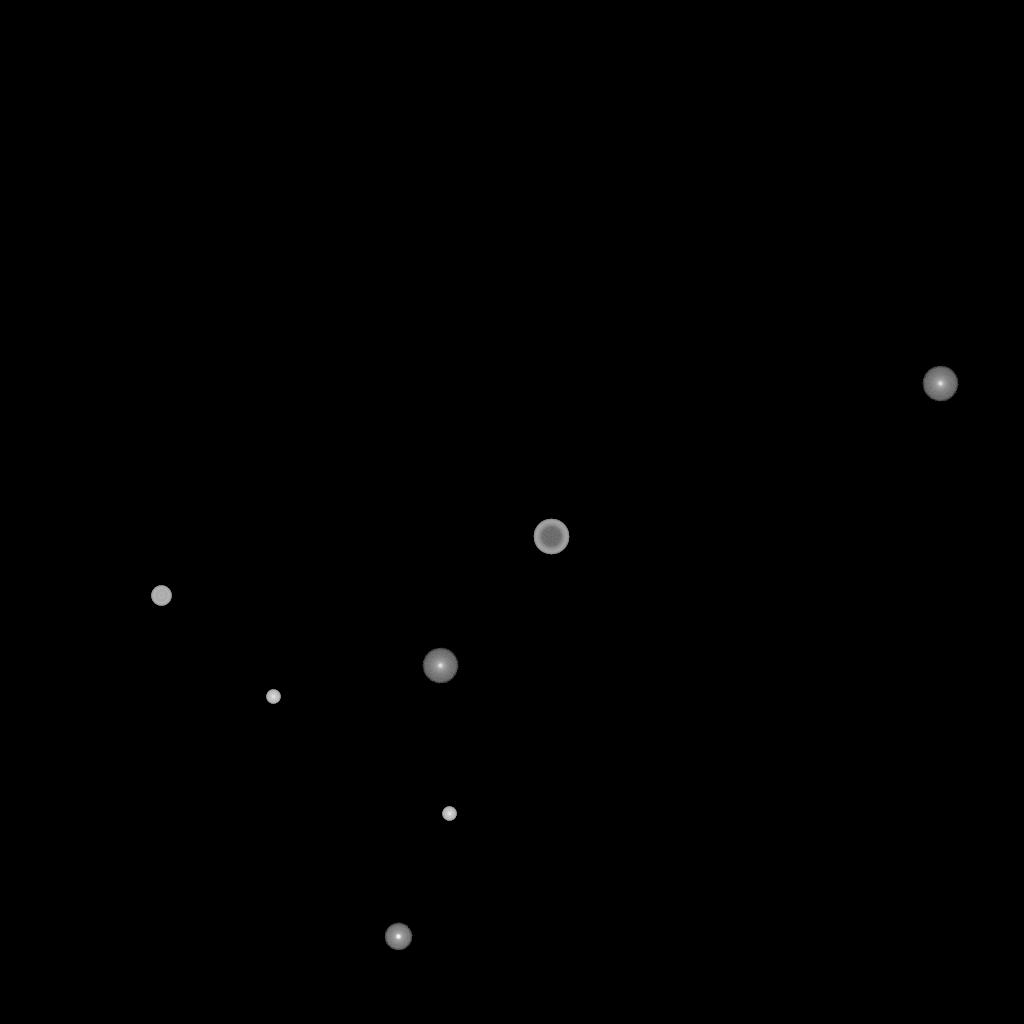depth:-10: (384, 923, 412, 951)
depth:-30: (442, 807, 456, 821), (266, 690, 280, 704)
depth:-40: (151, 586, 171, 606)
depth:-60: (533, 519, 569, 555)
depth:0: (922, 366, 958, 402), (422, 648, 458, 684)
